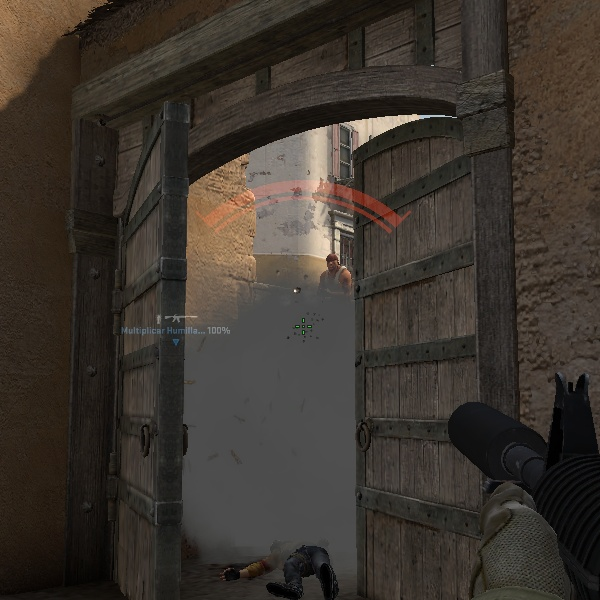t_body: (310, 251, 359, 289)
t_head: (325, 253, 340, 274)
